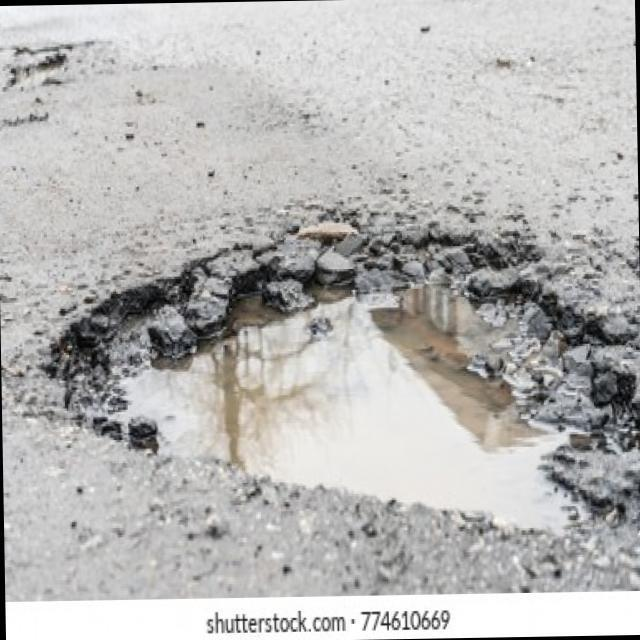pothole: (43, 216, 640, 556)
